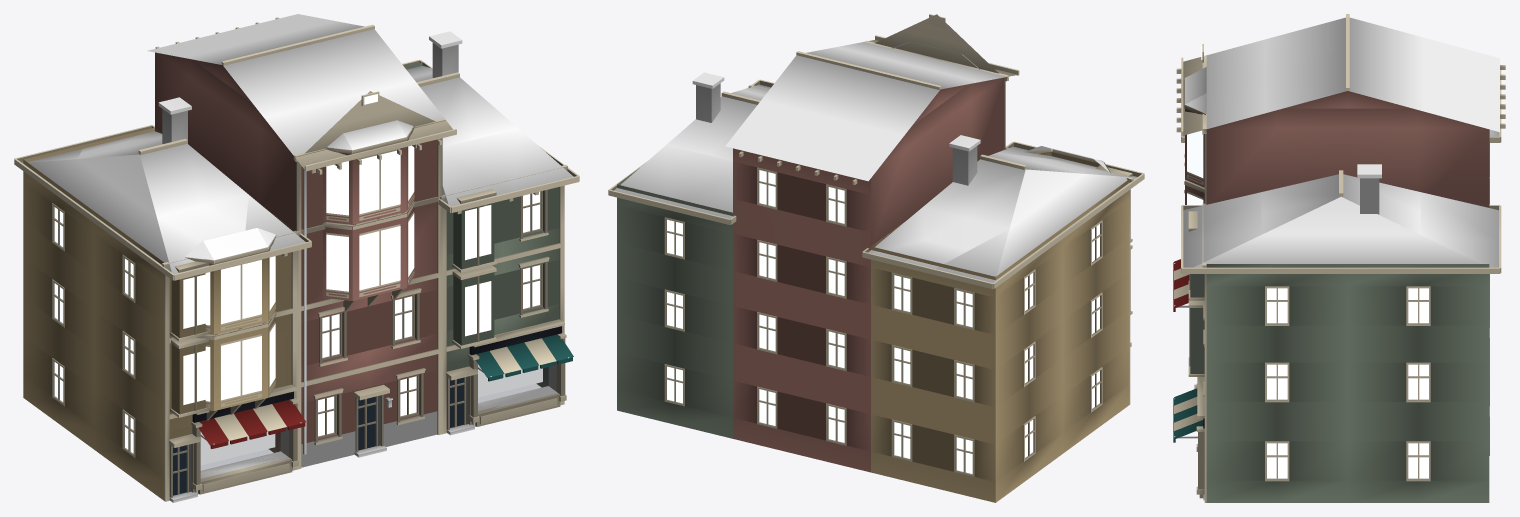
Rendered from bld_ahsap_row_a.glb.
3 views of the same model, side by side, from view 1: azimuth 30°, elevation 25°; view 2: azimuth 150°, elevation 25°; view 3: azimuth 270°, elevation 25° (orthographic). The views are drawn at different scales.
Parts seen in each view (by area): view 1: LOD0; view 2: LOD0; view 3: LOD0.
Boxes of the visible parts, x1,y1,x2,y2 form: LOD0: (14,14,579,502); LOD0: (608,14,1144,502); LOD0: (1173,14,1505,502).
Size of what is drawn, in the model's own units: 17.32 by 14.7 by 12.22.
